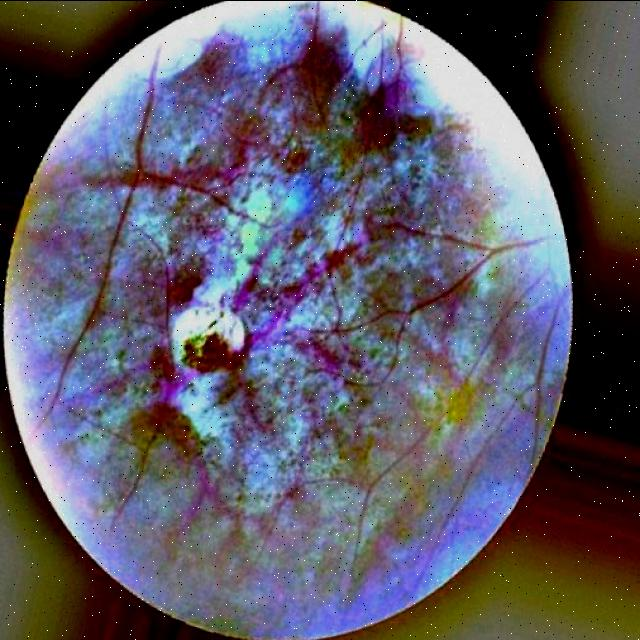Nerves: (61, 47, 255, 382), (309, 221, 540, 338), (262, 0, 345, 129), (286, 140, 311, 173), (168, 261, 176, 360)
